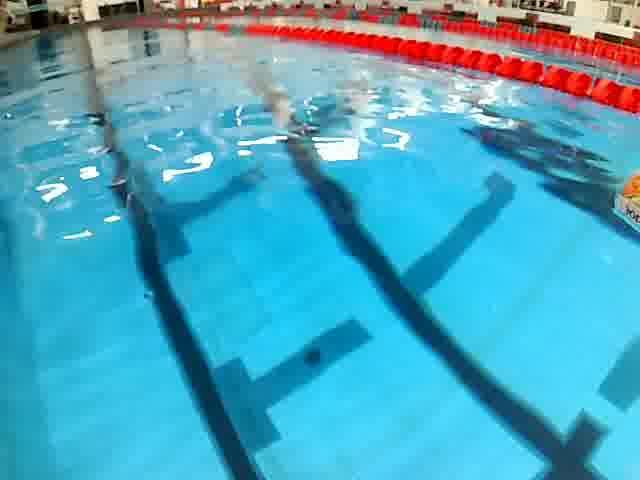Bottle: (605, 160, 640, 235)
